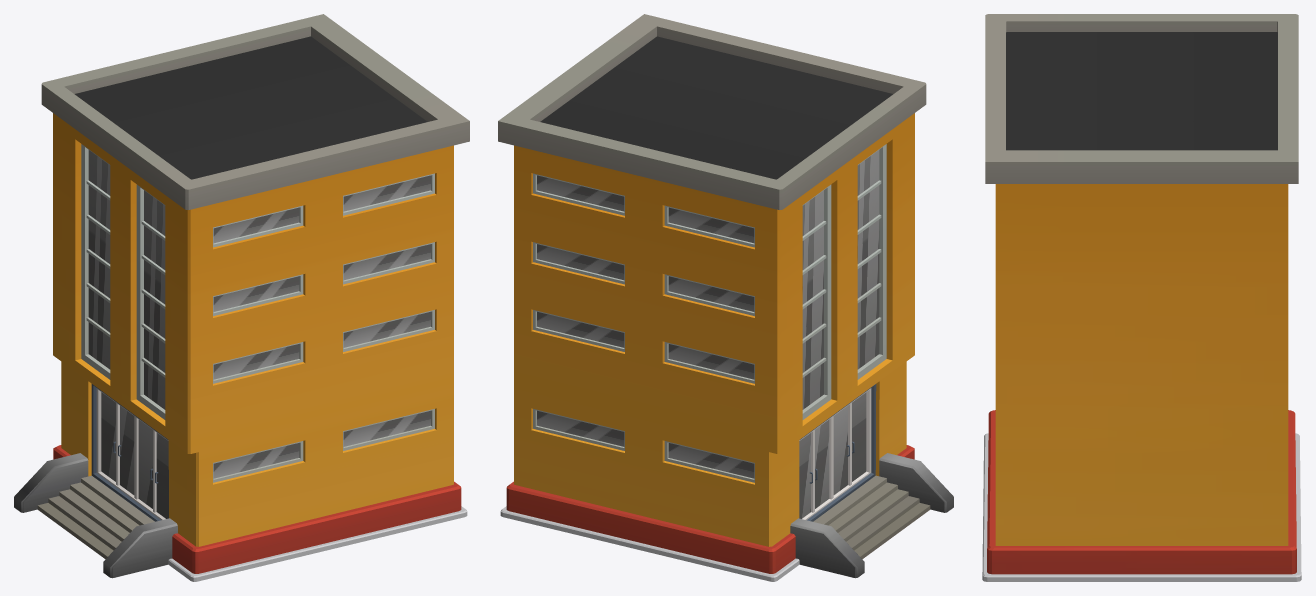
The model's file is Building_26_H.fbx.
3 views of the same model, side by side, from view 1: azimuth 30°, elevation 25°; view 2: azimuth 150°, elevation 25°; view 3: azimuth 270°, elevation 25° (orthographic). The views are drawn at different scales.
Visible parts, largest first — view 1: Building_26_H; view 2: Building_26_H; view 3: Building_26_H.
Boxes of the visible parts, <box> form: Building_26_H: <box>14,14,469,581</box>; Building_26_H: <box>498,14,953,581</box>; Building_26_H: <box>982,14,1301,581</box>.
Size of the model in its own units: 923 by 1037 by 712.
